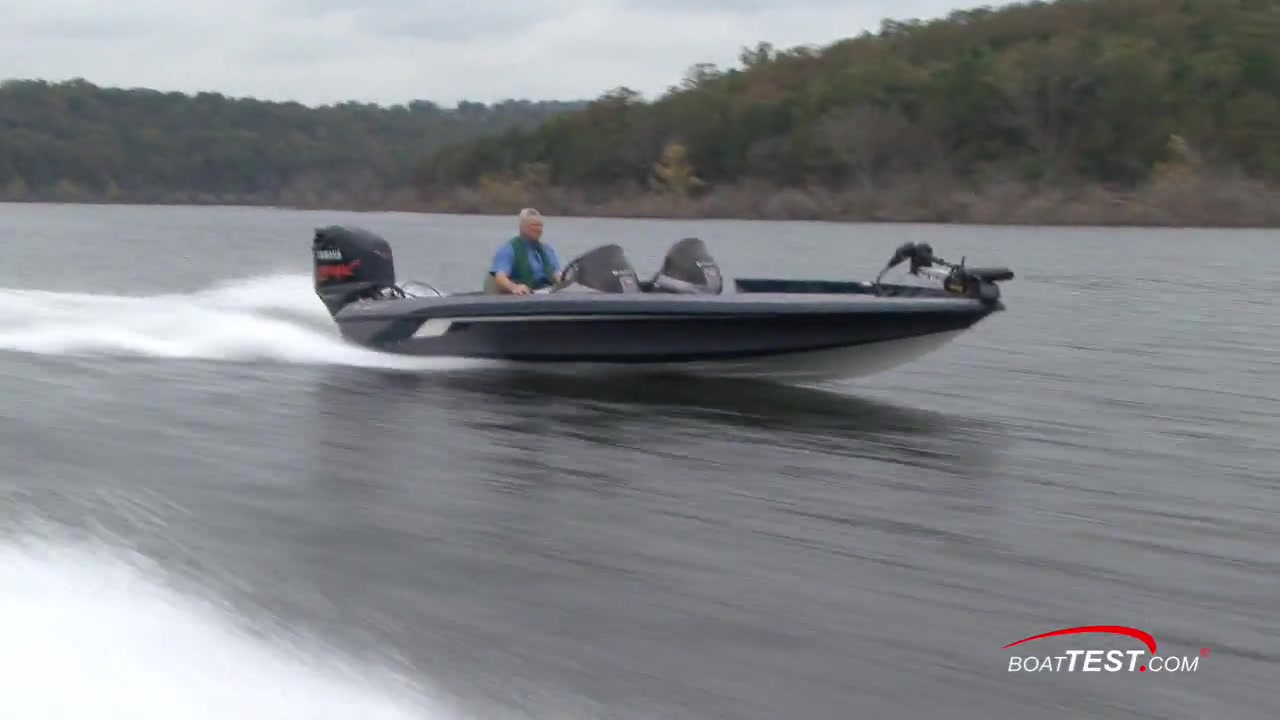boat: (310, 225, 1015, 383)
